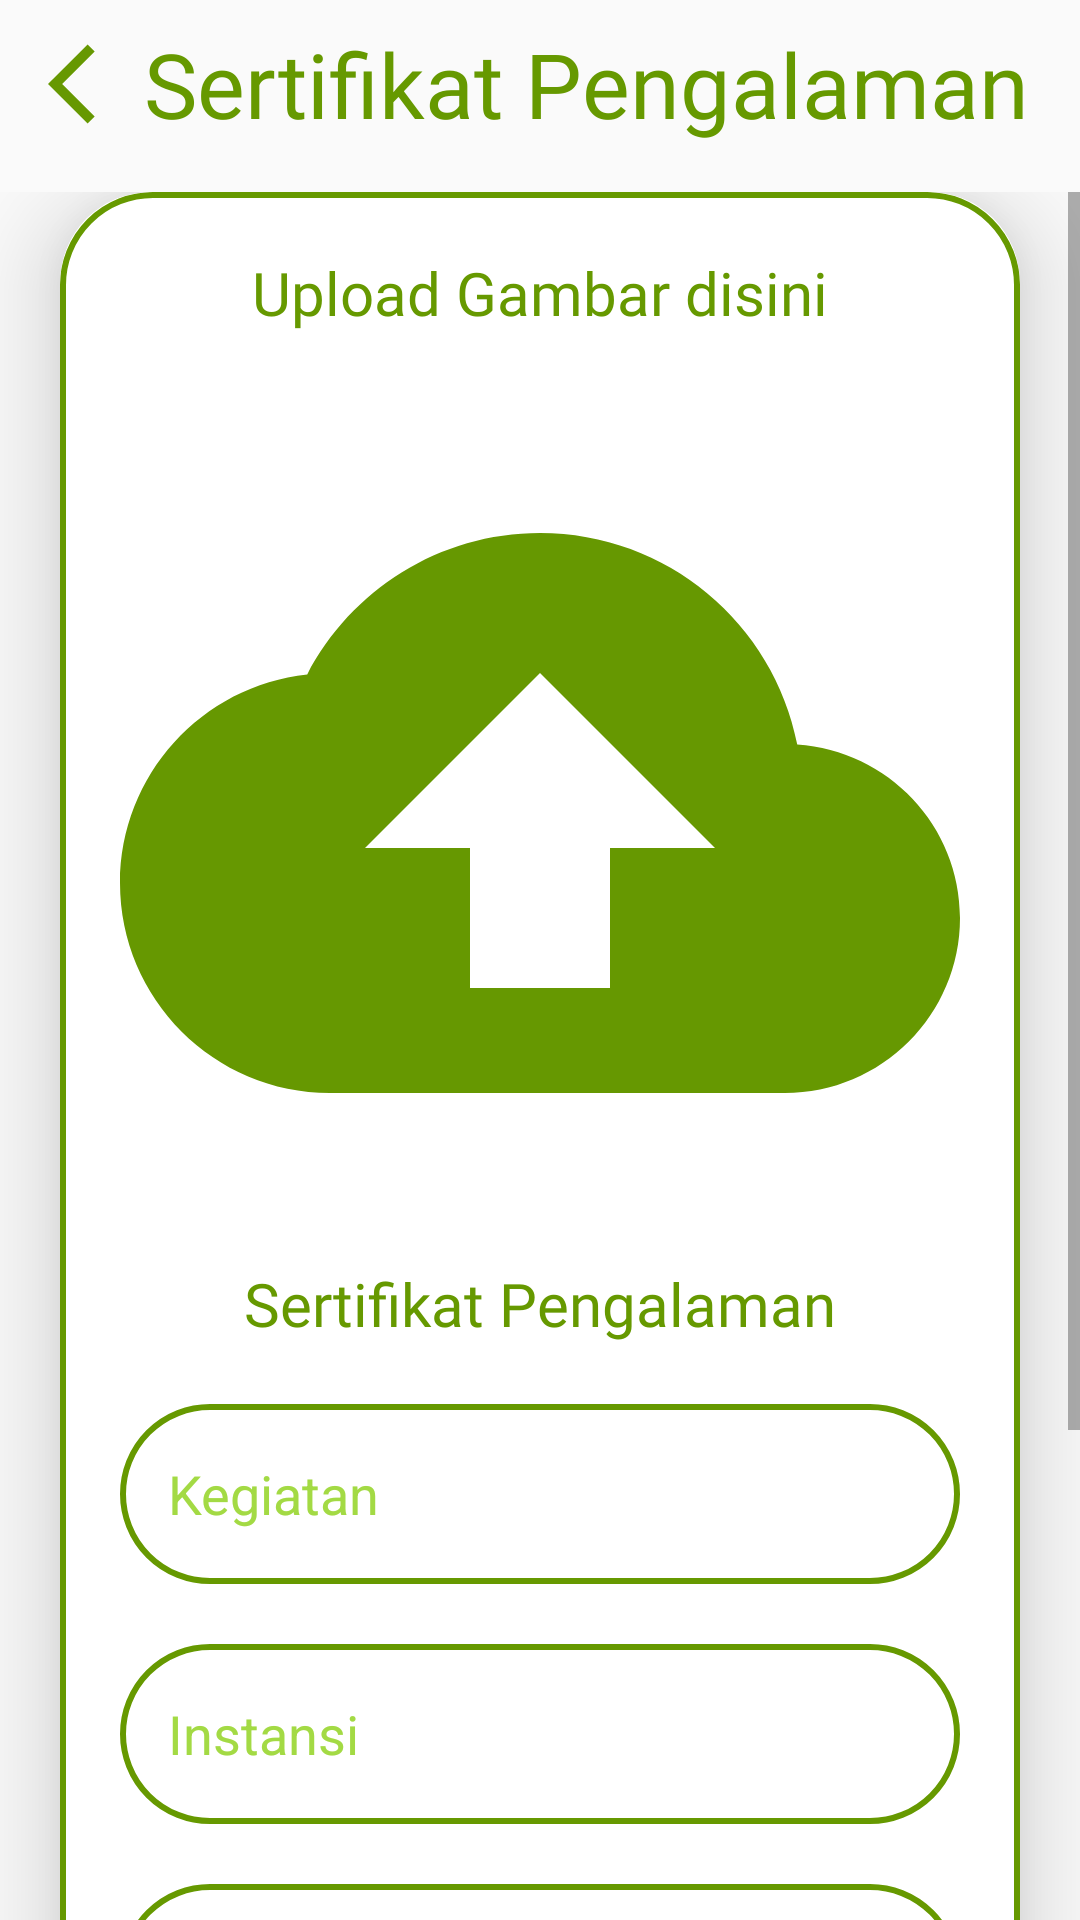

Where to tap for icons on this 1080 x 1920 app screen, as (x,y):
backicon: (71,84)
